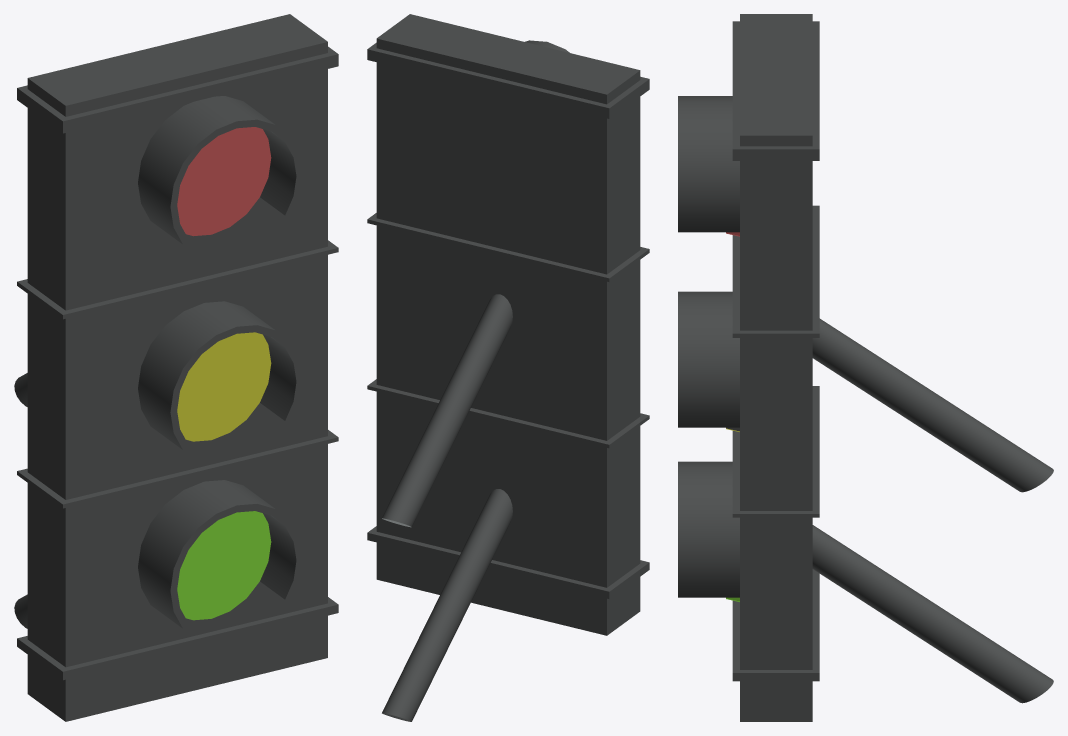
The model's file is TRAFFIC_LIGHTS_SEPERATE.fbx.
3 views of the same model, side by side, from view 1: azimuth 30°, elevation 25°; view 2: azimuth 150°, elevation 25°; view 3: azimuth 270°, elevation 25° (orthographic). The views are drawn at different scales.
Parts seen in each view (by area): view 1: polySurface4; view 2: polySurface4; view 3: polySurface4.
Part boxes in pixels (bbox=[...]): polySurface4: bbox=[14, 14, 338, 721]; polySurface4: bbox=[367, 14, 649, 721]; polySurface4: bbox=[678, 14, 1053, 721].
Size of the model in its own units: 8.29 by 19.05 by 10.29.
